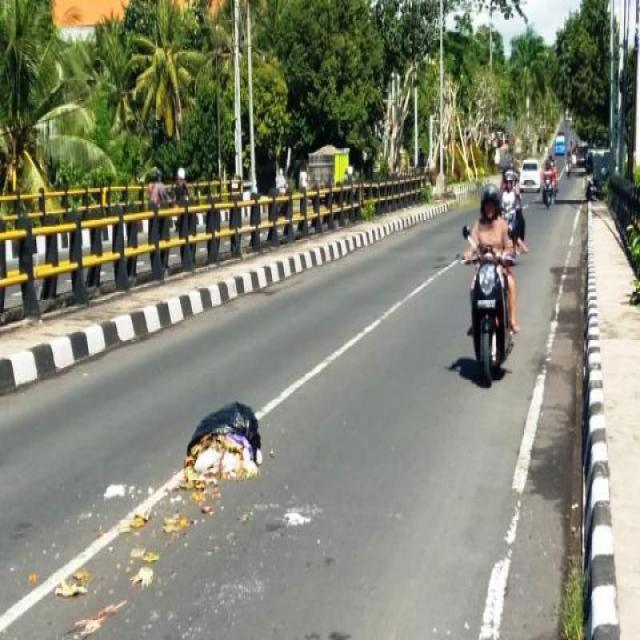trash: (55, 375, 326, 640)
